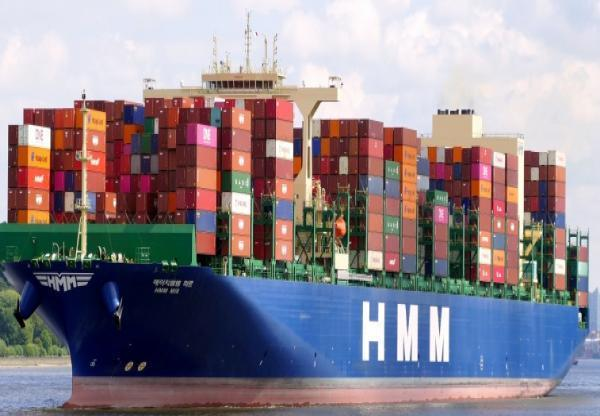Container Ship: (1, 11, 590, 409)
